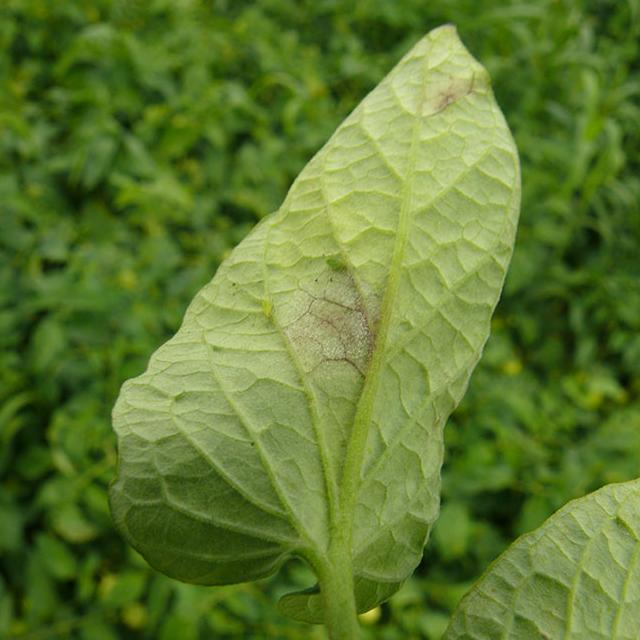Tomato leaf late blight: (82, 13, 533, 634)
